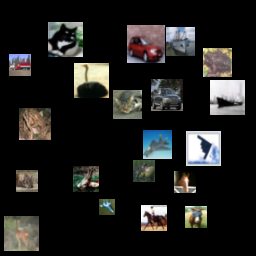airplane: (186, 131, 221, 166), (143, 130, 172, 159), (99, 199, 115, 215)
automobile: (127, 25, 165, 63), (151, 79, 183, 111)
bird: (74, 63, 109, 98)
cat: (48, 22, 83, 57), (113, 90, 142, 119), (16, 170, 38, 192)
deer: (4, 216, 39, 251), (73, 166, 99, 192)
frog: (19, 108, 51, 140), (203, 48, 232, 77), (133, 160, 155, 182)
ship: (210, 80, 245, 115), (166, 27, 195, 56)
